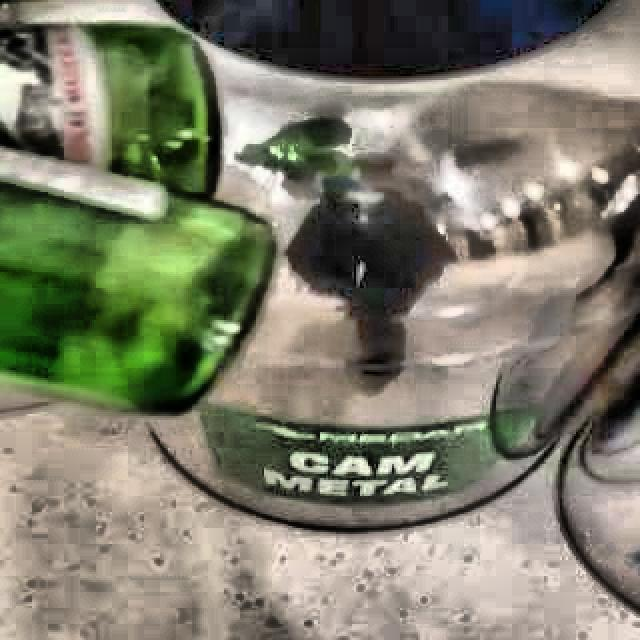glass: (0, 21, 275, 412)
